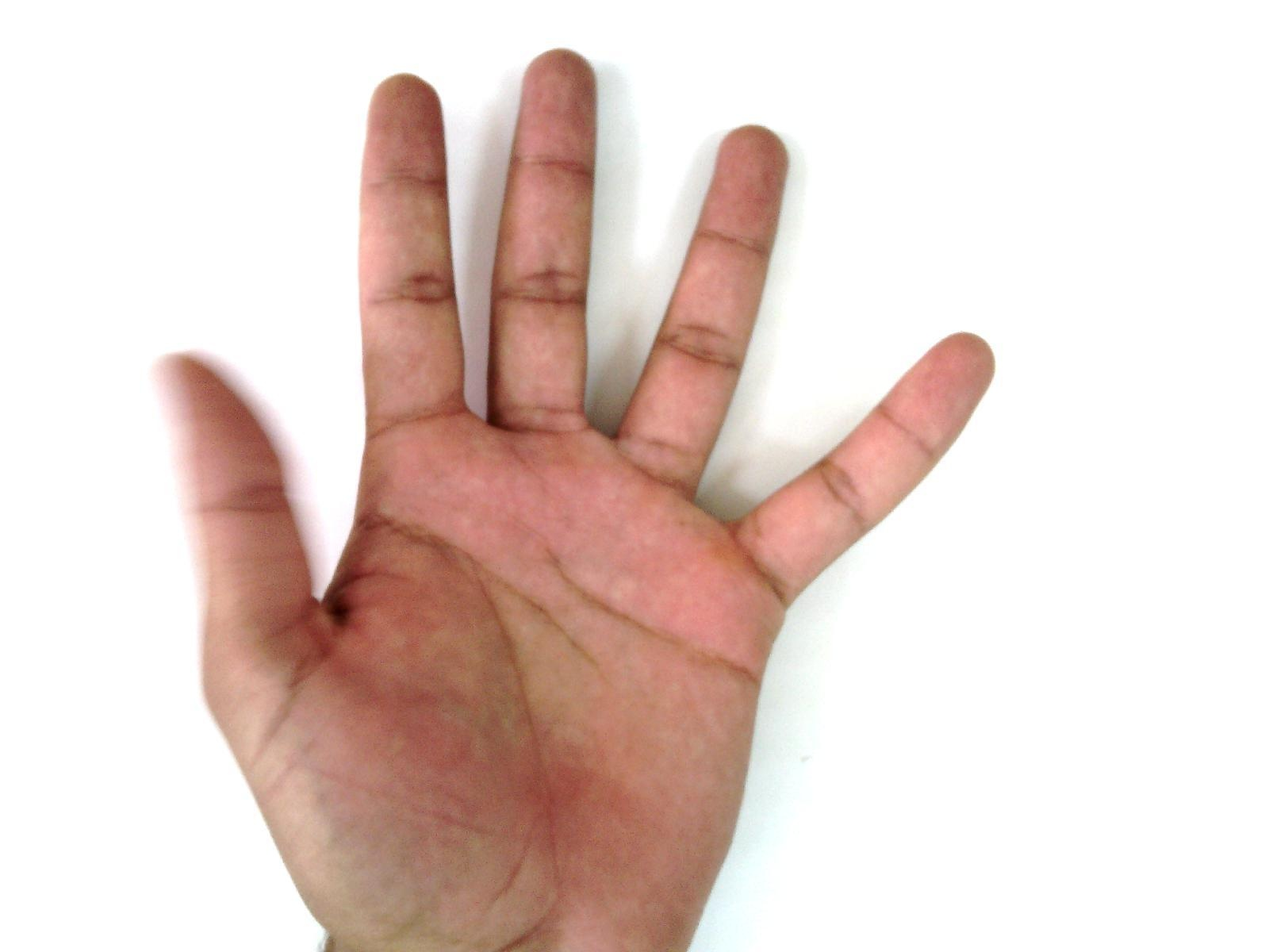open_palm: (149, 47, 999, 951)
